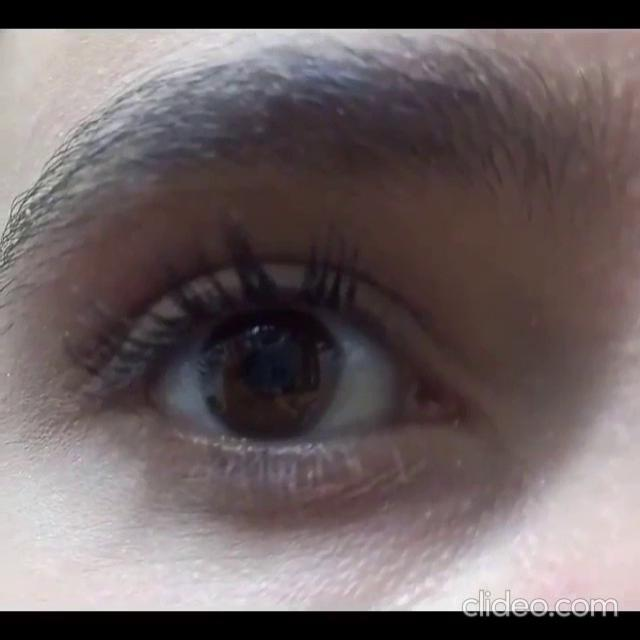iris: (199, 310, 342, 438), (238, 342, 304, 393)
